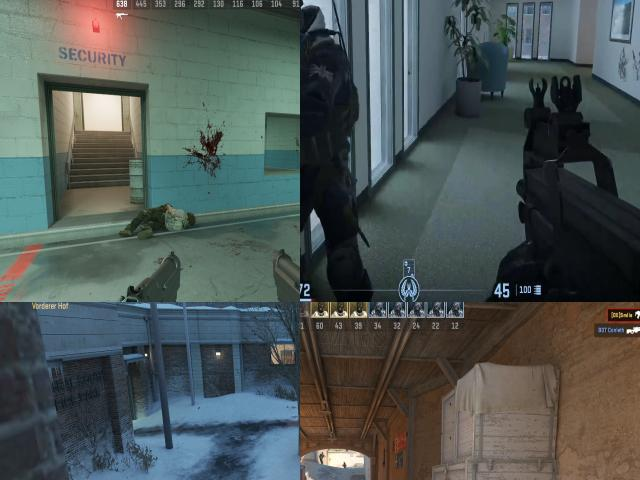CT: (300, 0, 358, 160), (320, 452, 324, 463), (343, 462, 346, 467)
CT-Head: (322, 452, 324, 454), (344, 462, 345, 464)
Dead: (132, 202, 197, 234)
